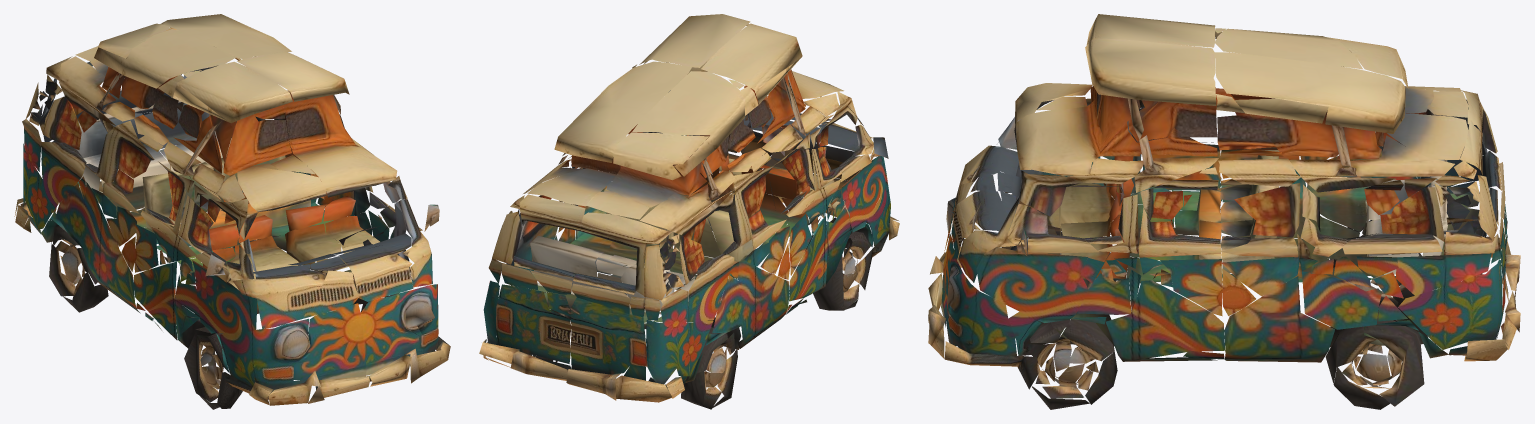
The model's file is campervan.glb.
3 views of the same model, side by side, from view 1: azimuth 30°, elevation 25°; view 2: azimuth 150°, elevation 25°; view 3: azimuth 270°, elevation 25° (orthographic). The views are drawn at different scales.
Visible parts, largest first — view 1: tripo_node_f5d94e59-9556-4883-baca-879c94323680; view 2: tripo_node_f5d94e59-9556-4883-baca-879c94323680; view 3: tripo_node_f5d94e59-9556-4883-baca-879c94323680.
Part boxes in pixels (x1,y1,x2,y2): tripo_node_f5d94e59-9556-4883-baca-879c94323680: (14, 14, 450, 409); tripo_node_f5d94e59-9556-4883-baca-879c94323680: (479, 14, 899, 409); tripo_node_f5d94e59-9556-4883-baca-879c94323680: (928, 14, 1520, 409).
Bounding box in the file's own units: 1.79 × 2.11 × 3.53.
1 material, 1 textured.
